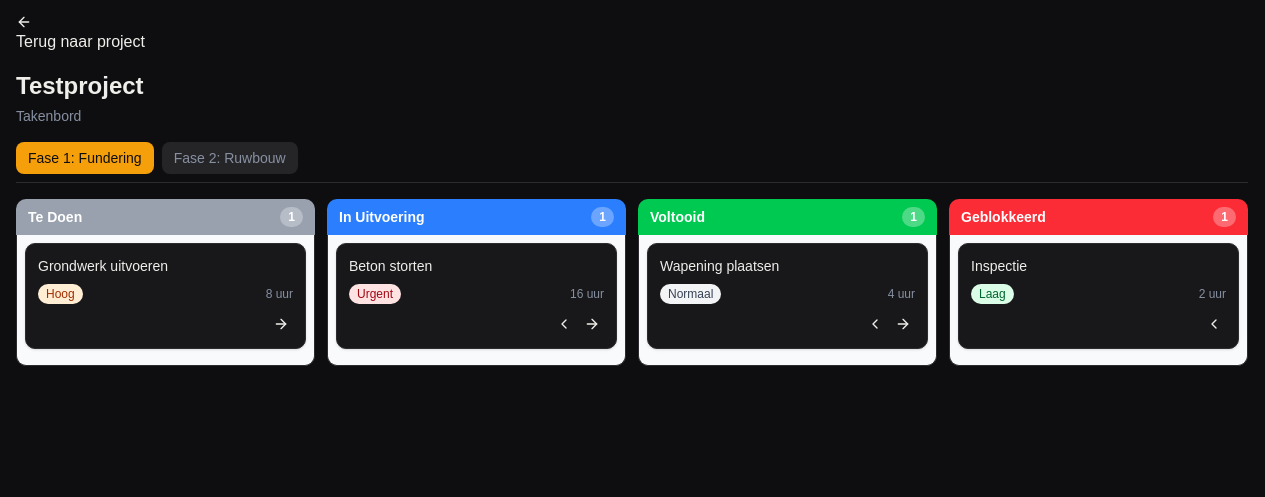
it: KanbanBoardPage › successful move updates task to new column and shows no error
Check: the text "Grondwerk uitvoeren" is shown, box [38,258,168,274]
What coordinates should you click on to do the following:
click the button named "→ vooruit" below "Hoog"
I would click on:
 (281, 324)
Its box is [269,312,293,336].
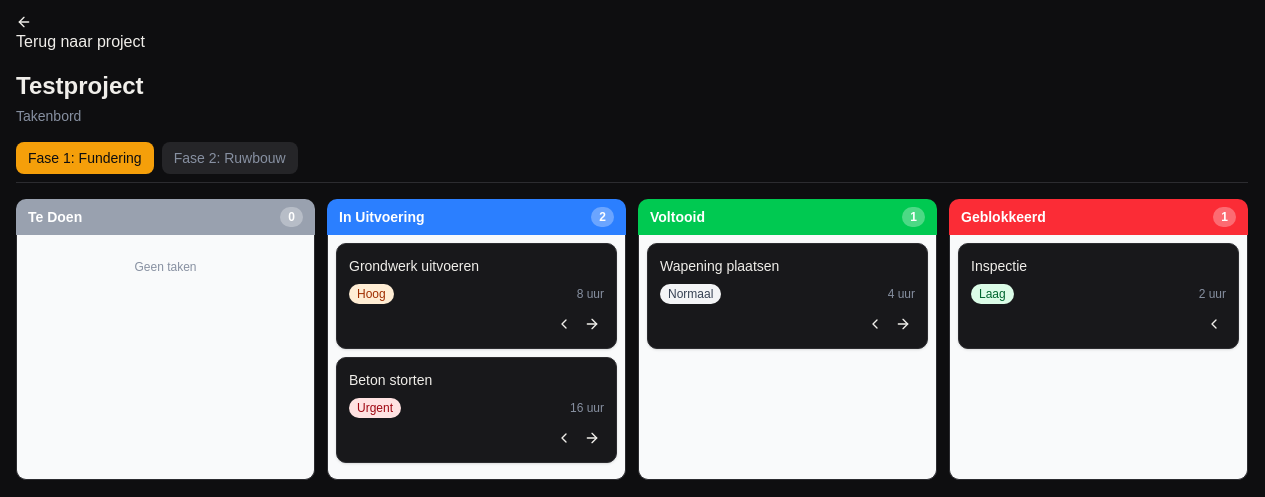
Check: the text with test id "column-count" reads "2", box [599,210,606,224]
